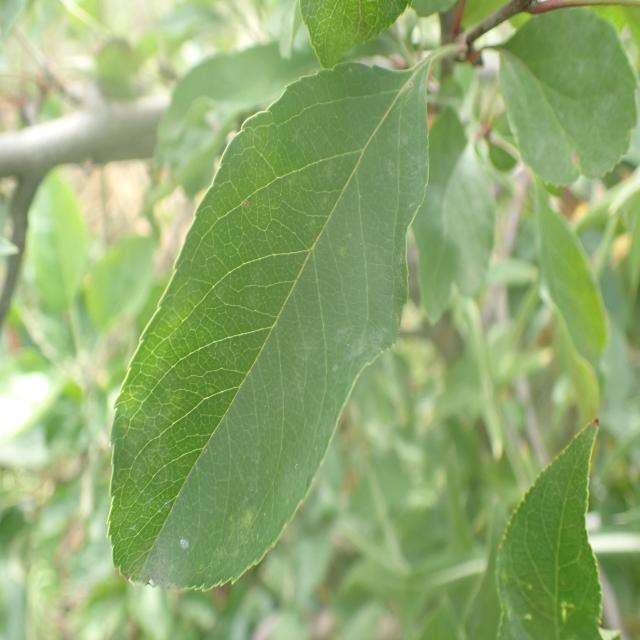Powdery_mildew: (103, 54, 429, 581)
